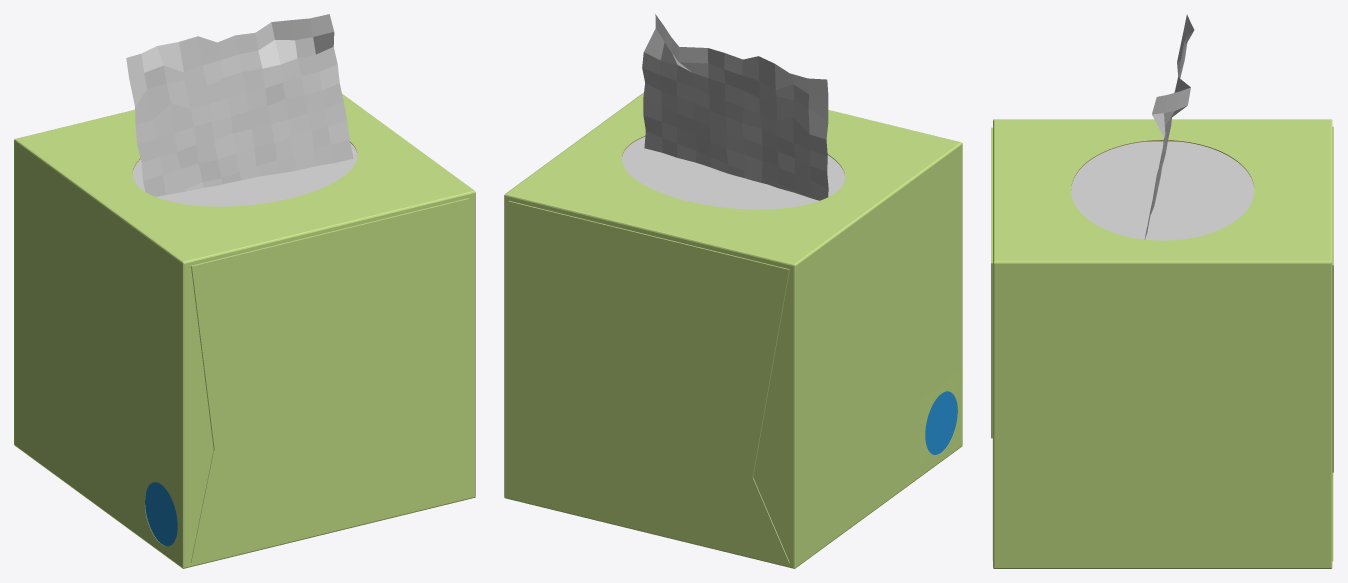
Rendered from tissue_box.fbx.
3 views of the same model, side by side, from view 1: azimuth 30°, elevation 25°; view 2: azimuth 150°, elevation 25°; view 3: azimuth 270°, elevation 25° (orthographic).
Visible parts, largest first — view 1: tissue box; view 2: tissue box; view 3: tissue box.
Part boxes in pixels (left/top/right/bottom): tissue box: left=14, top=14, right=475, bottom=568; tissue box: left=504, top=14, right=962, bottom=568; tissue box: left=991, top=14, right=1333, bottom=568.
Size of the model in its own units: 125 by 180 by 127.
